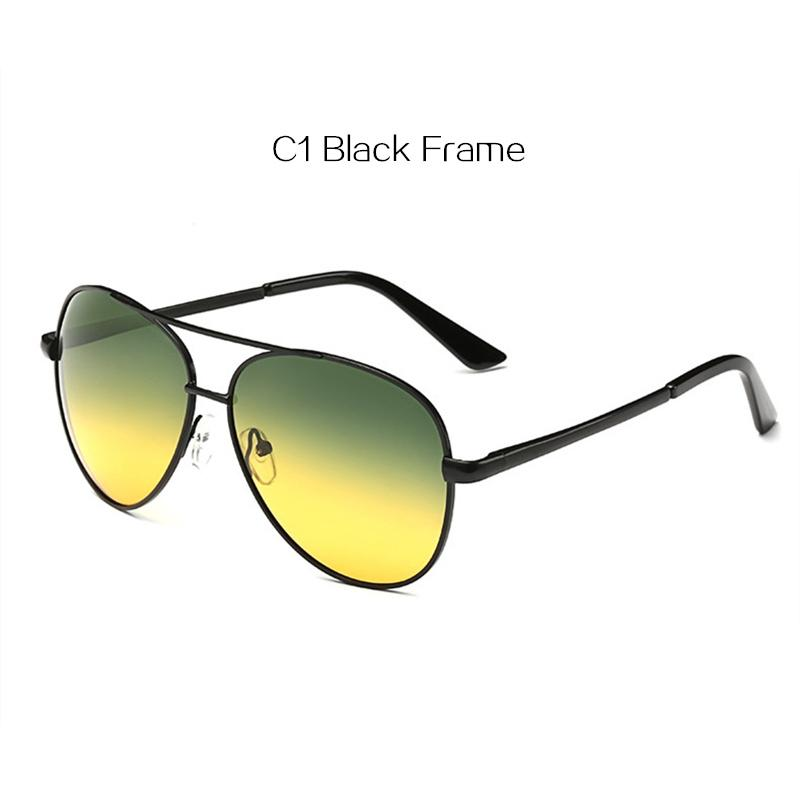sunglasses: (16, 255, 782, 623)
